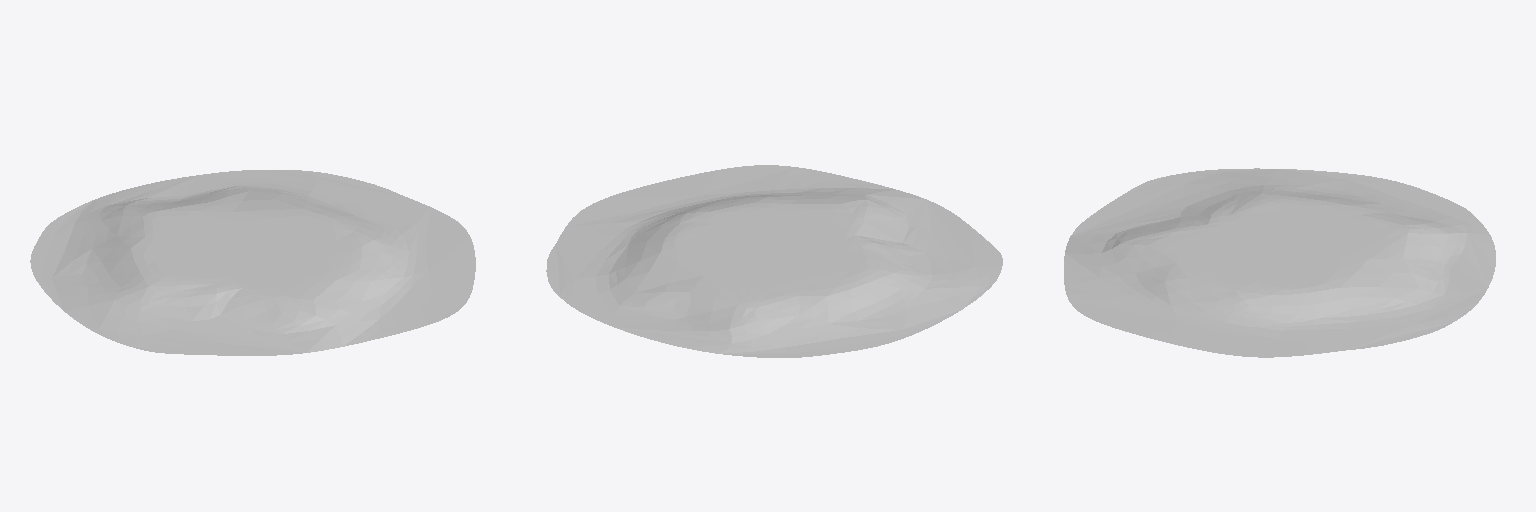
Rendered from Ground.obj.
The picture shows the model from 3 angles: view 1: azimuth 30°, elevation 25°; view 2: azimuth 150°, elevation 25°; view 3: azimuth 270°, elevation 25°; orthographic projection.
Visible parts, largest first — view 1: SM_Env_Beach_06_Mesh; view 2: SM_Env_Beach_06_Mesh; view 3: SM_Env_Beach_06_Mesh.
Part boxes in pixels (x1,y1,x2,y2): SM_Env_Beach_06_Mesh: (30, 170, 475, 355); SM_Env_Beach_06_Mesh: (546, 165, 1002, 357); SM_Env_Beach_06_Mesh: (1064, 168, 1495, 357).
Bounding box in the file's own units: 456 × 16.04 × 440.